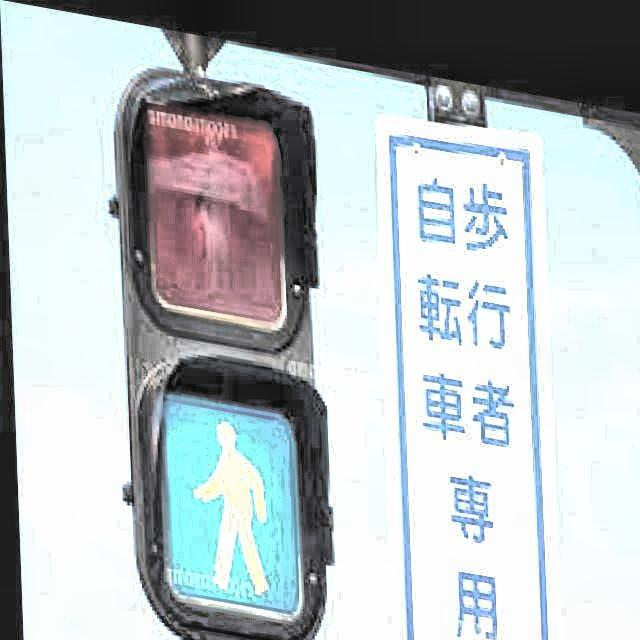semaforo pedestre: (74, 40, 380, 640)
